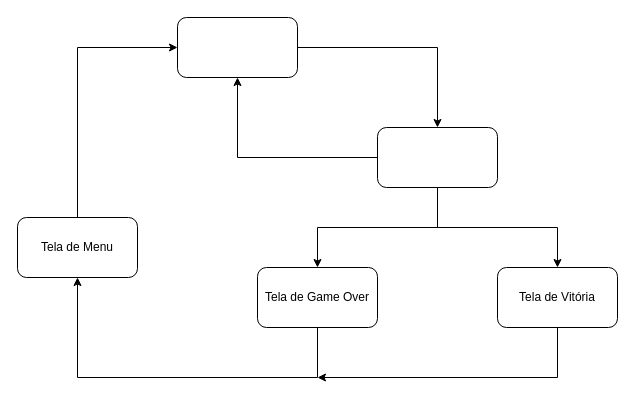
Image size: 635x403. Some labels were removed from this diagram. Here are the shapes that lost their labels. From the top down, the centre of each, then its label:
point 237,47: Tela do oceano (gameplay)
point 437,157: Tela do Surto (gameplay)
